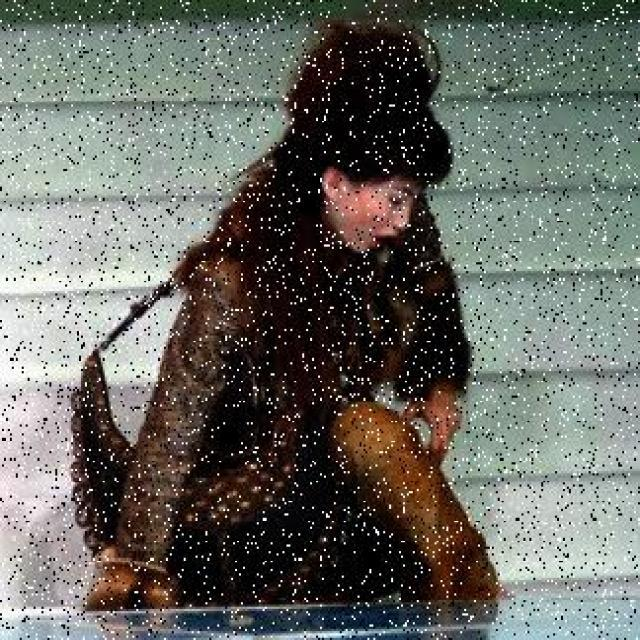fall: (112, 98, 514, 618)
